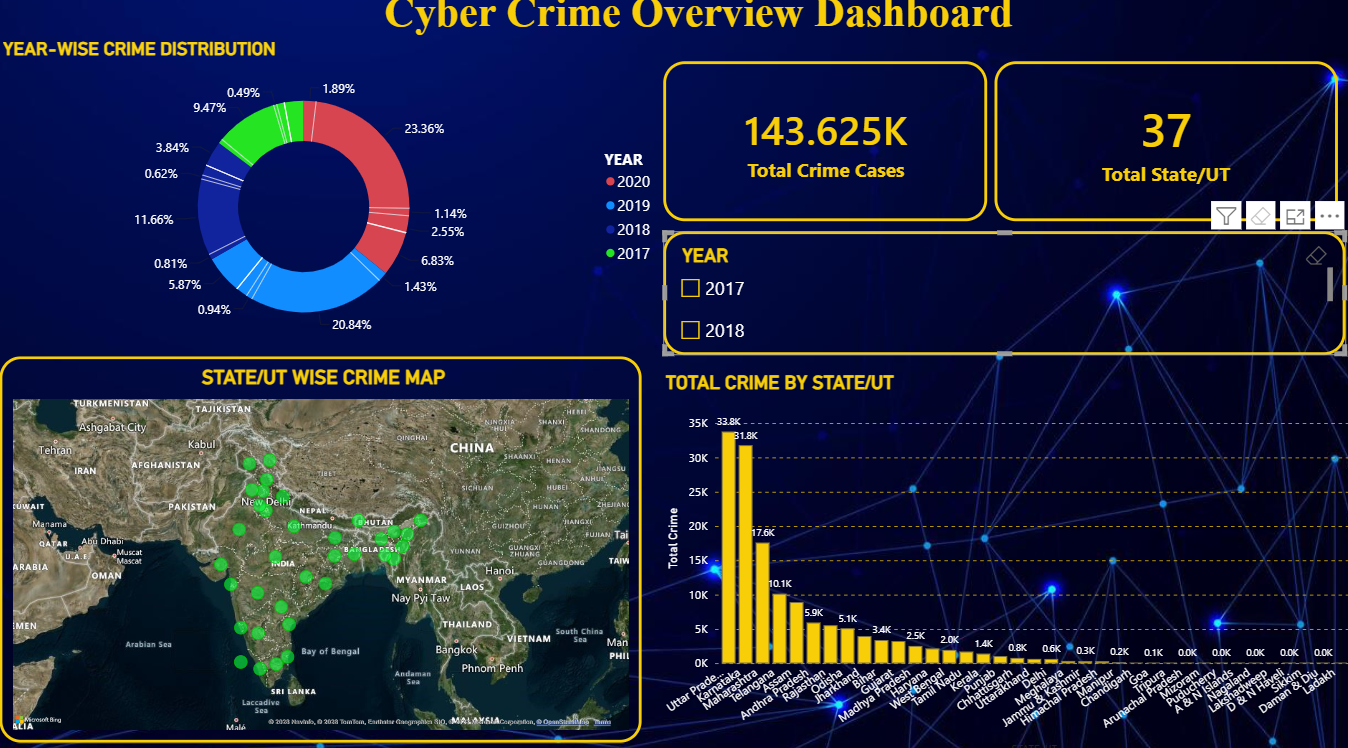

The dashboard page shown, as its layout file describes it:
{"tool":"powerbi","page":{"name":"Cyber Crime Overview Dashboard","canvas":[1920,1080],"ordinal":0},"visuals":[{"type":"textbox","box":[556.2,0,927.1,91.7],"z":0},{"type":"cardVisual","fields":{"Data":["CYBER_CRIME.Total_crime"]},"box":[950,106.2,452.1,222.9],"z":1000},{"type":"cardVisual","fields":{"Data":["CYBER_CRIME.Total State"]},"box":[1412.5,106.2,479.2,222.9],"z":2000},{"type":"map","title":"STATE/UT WISE CRIME MAP","fields":{"Category":["CYBER_CRIME.STATE_UT"],"Size":["CYBER_CRIME.Total State/UT"]},"box":[24.2,517.2,895.8,539.6],"z":3000},{"type":"slicer","fields":{"Values":["CYBER_CRIME.YEAR"]},"box":[950,343.8,952.1,172.9],"z":4000},{"type":"clusteredColumnChart","title":"TOTAL CRIME BY STATE/UT","fields":{"Category":["CYBER_CRIME.STATE_UT"],"Y":["Sum(CYBER_CRIME.TOTAL)"]},"box":[949.5,539.3,970.5,539.3],"z":5000},{"type":"donutChart","title":"YEAR-WISE CRIME DISTRIBUTION","fields":{"Category":["CYBER_CRIME.YEAR"],"Y":["Sum(CYBER_CRIME.EXTORTION)","Sum(CYBER_CRIME.FRAUD)","Sum(CYBER_CRIME.PERSONAL_REVENGE)","Sum(CYBER_CRIME.SEXUAL_EXPLOITATION)","Sum(CYBER_CRIME.SALE_PURCHASE_ILLEGAL_DRUGS)","Sum(CYBER_CRIME.DISRUPT_PUBLIC_SERVICE)","Sum(CYBER_CRIME.OTHERS)"]},"box":[24.4,75.1,925.1,429.4],"z":6000}]}

Visuals, with their boxes in screenshot pixels (x1, y1, x2, y2), scaled from the page's 1920x1080 canvas onto the 1348x748 screenshot:
textbox: region(390, 0, 1041, 64)
cardVisual - CYBER_CRIME.Total_crime: region(667, 74, 984, 228)
cardVisual - CYBER_CRIME.Total State: region(992, 74, 1328, 228)
"STATE/UT WISE CRIME MAP" map: region(17, 358, 646, 732)
slicer - CYBER_CRIME.YEAR: region(667, 238, 1335, 358)
"TOTAL CRIME BY STATE/UT" clusteredColumnChart: region(667, 374, 1347, 747)
"YEAR-WISE CRIME DISTRIBUTION" donutChart: region(17, 52, 667, 349)
